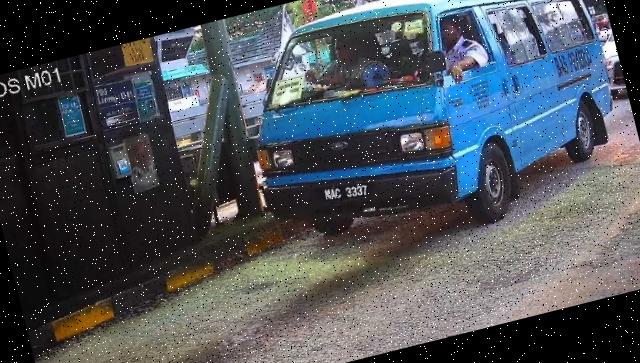License_Plate: (320, 175, 376, 212)
van: (225, 1, 640, 276)
